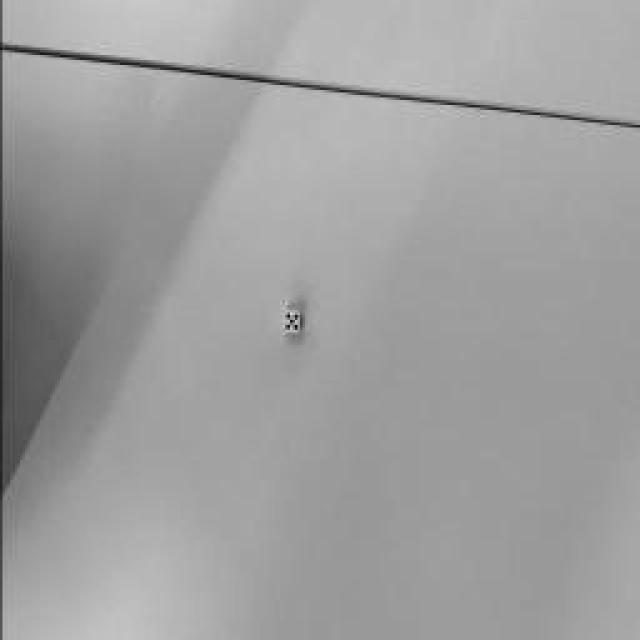dice_5: (284, 311, 298, 334)
